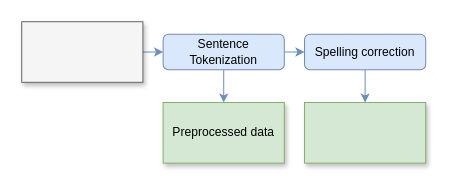
Some shapes in this 449 by 188 pixel diagram are drawn without their labels. The centre of each missing label's shape, as x and y in pixels:
Preprocessed data with spelling correction: the point at 365,133
Raw data: the point at 83,53
